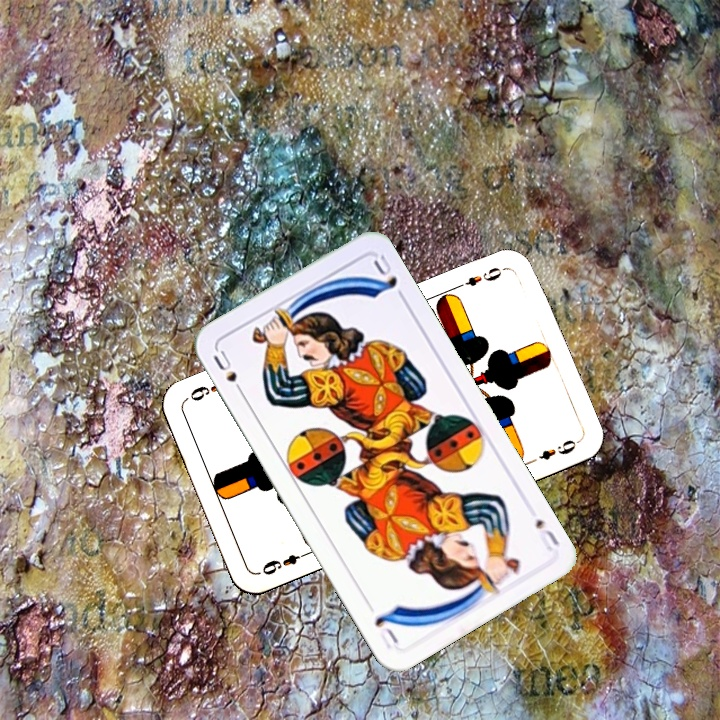E9: (258, 547, 312, 578), (452, 263, 509, 292)
SU: (209, 345, 248, 400), (531, 514, 562, 554)
